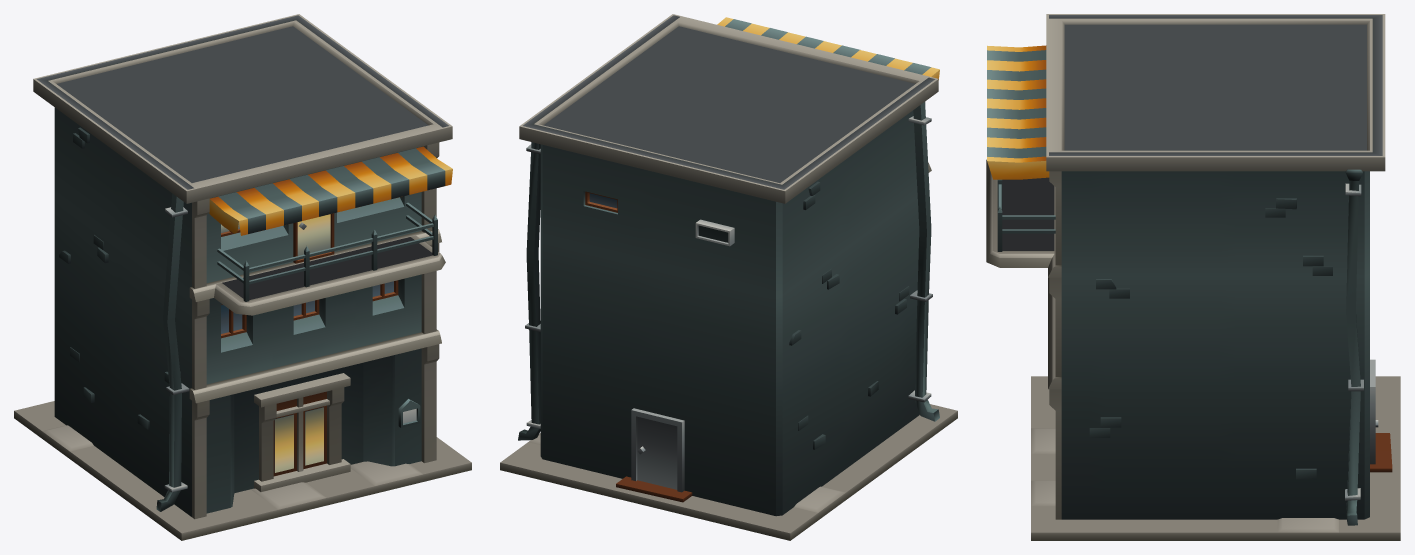
File: Building_9B.fbx
3 renders of one model, left to right at view 1: azimuth 30°, elevation 25°; view 2: azimuth 150°, elevation 25°; view 3: azimuth 270°, elevation 25°, orthographic. The views are drawn at different scales.
Visible parts, largest first — view 1: Building_9B, Shed_9B, Window_Lights_9B; view 2: Building_9B, Shed_9B; view 3: Building_9B, Shed_9B.
Boxes of the visible parts, bbox=[...] form: Building_9B: bbox=[14, 14, 471, 540]; Shed_9B: bbox=[209, 146, 452, 235]; Window_Lights_9B: bbox=[221, 214, 330, 472]; Building_9B: bbox=[500, 14, 957, 540]; Shed_9B: bbox=[717, 17, 939, 79]; Building_9B: bbox=[986, 14, 1400, 540]; Shed_9B: bbox=[987, 45, 1049, 179].
Size of the model in its own units: 1214 by 1350 by 1345.
